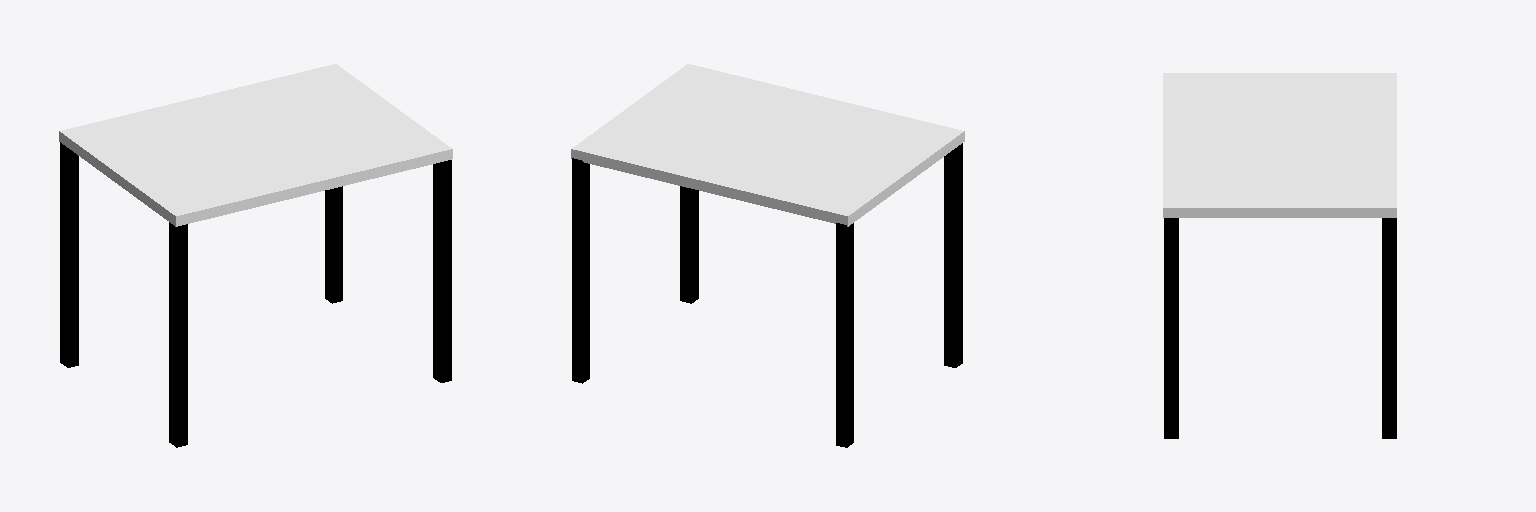
The picture shows the model from 3 angles: view 1: azimuth 30°, elevation 25°; view 2: azimuth 150°, elevation 25°; view 3: azimuth 270°, elevation 25°; orthographic projection.
Parts seen in each view (by area): view 1: pCube6; view 2: pCube6; view 3: pCube6.
Boxes of the visible parts, <box> form: pCube6: <box>59,64,452,447</box>; pCube6: <box>571,64,964,447</box>; pCube6: <box>1163,73,1396,438</box>.
Size of the model in its own units: 97.13 by 77.77 by 70.91.
Materials: 2 (1 with a texture image).